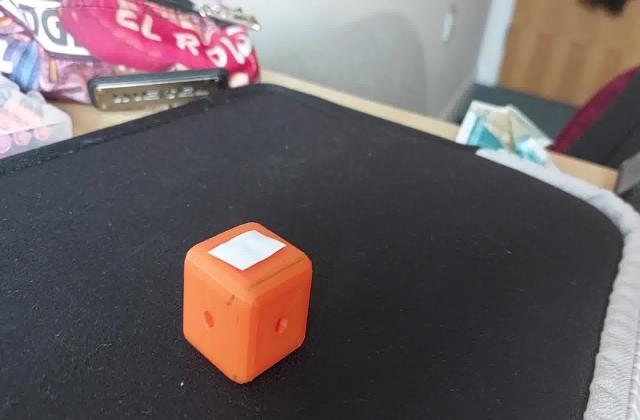cube: (175, 216, 312, 386)
white: (211, 236, 278, 277)
